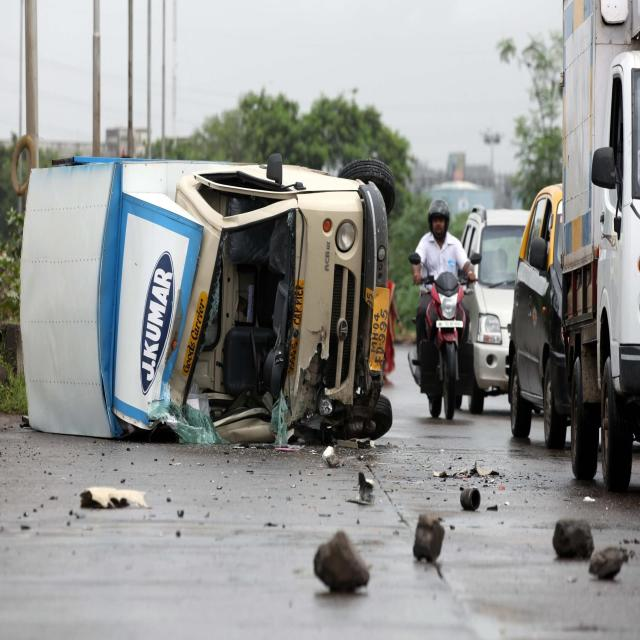accident: (20, 155, 395, 443)
car: (461, 206, 529, 414)
motorcycle: (411, 200, 476, 419)
